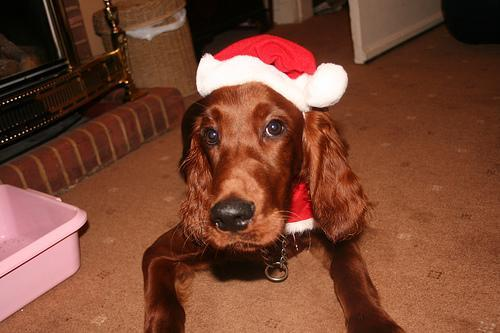Irish_setter: (140, 34, 406, 332)
